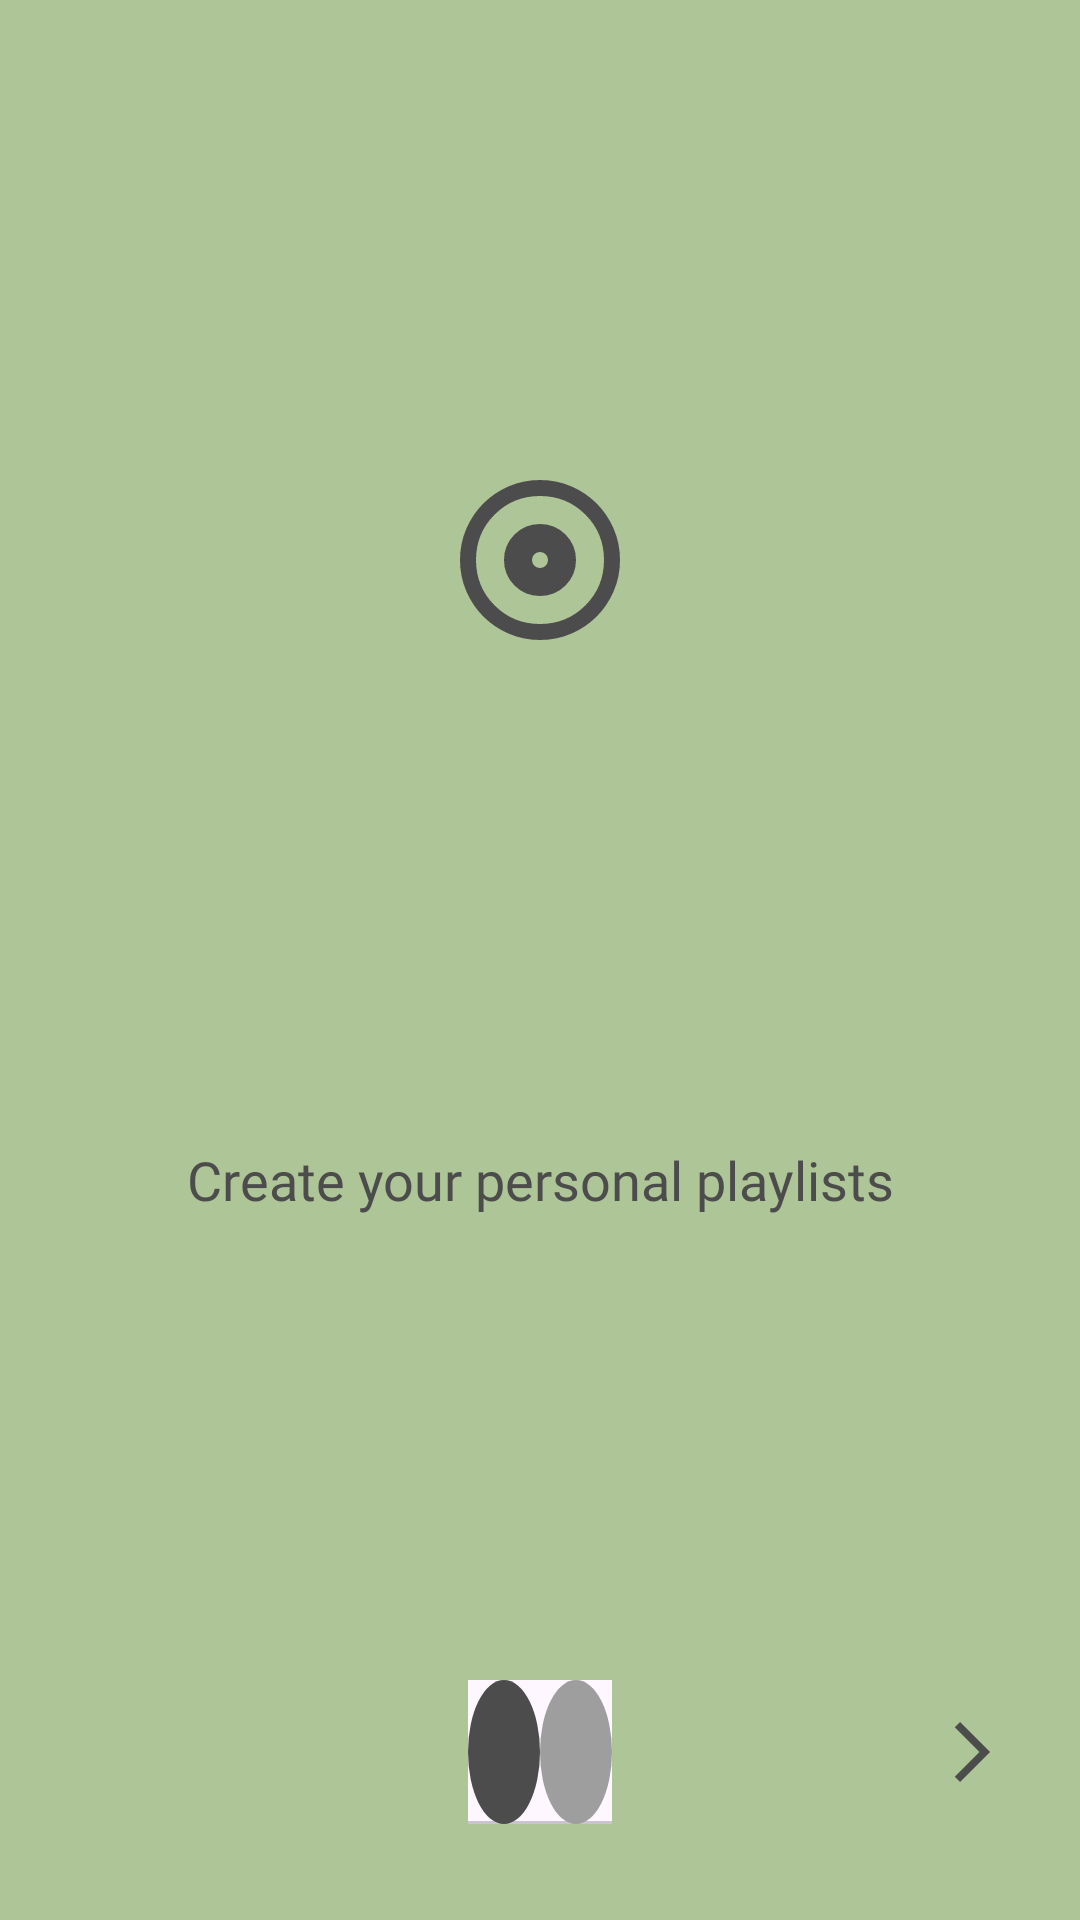

Screen size 1080 × 1920. Icon name, then its center in pixels as [x,y]:
Müzik albüm simgesi: [540,560]
Sonraki sayfaya geçiş oku: [972,1752]
